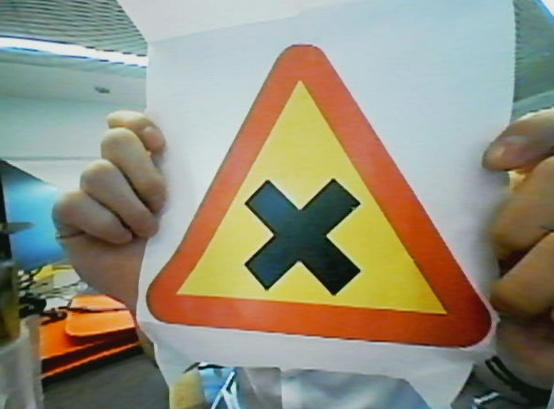junction: (130, 37, 501, 362)
